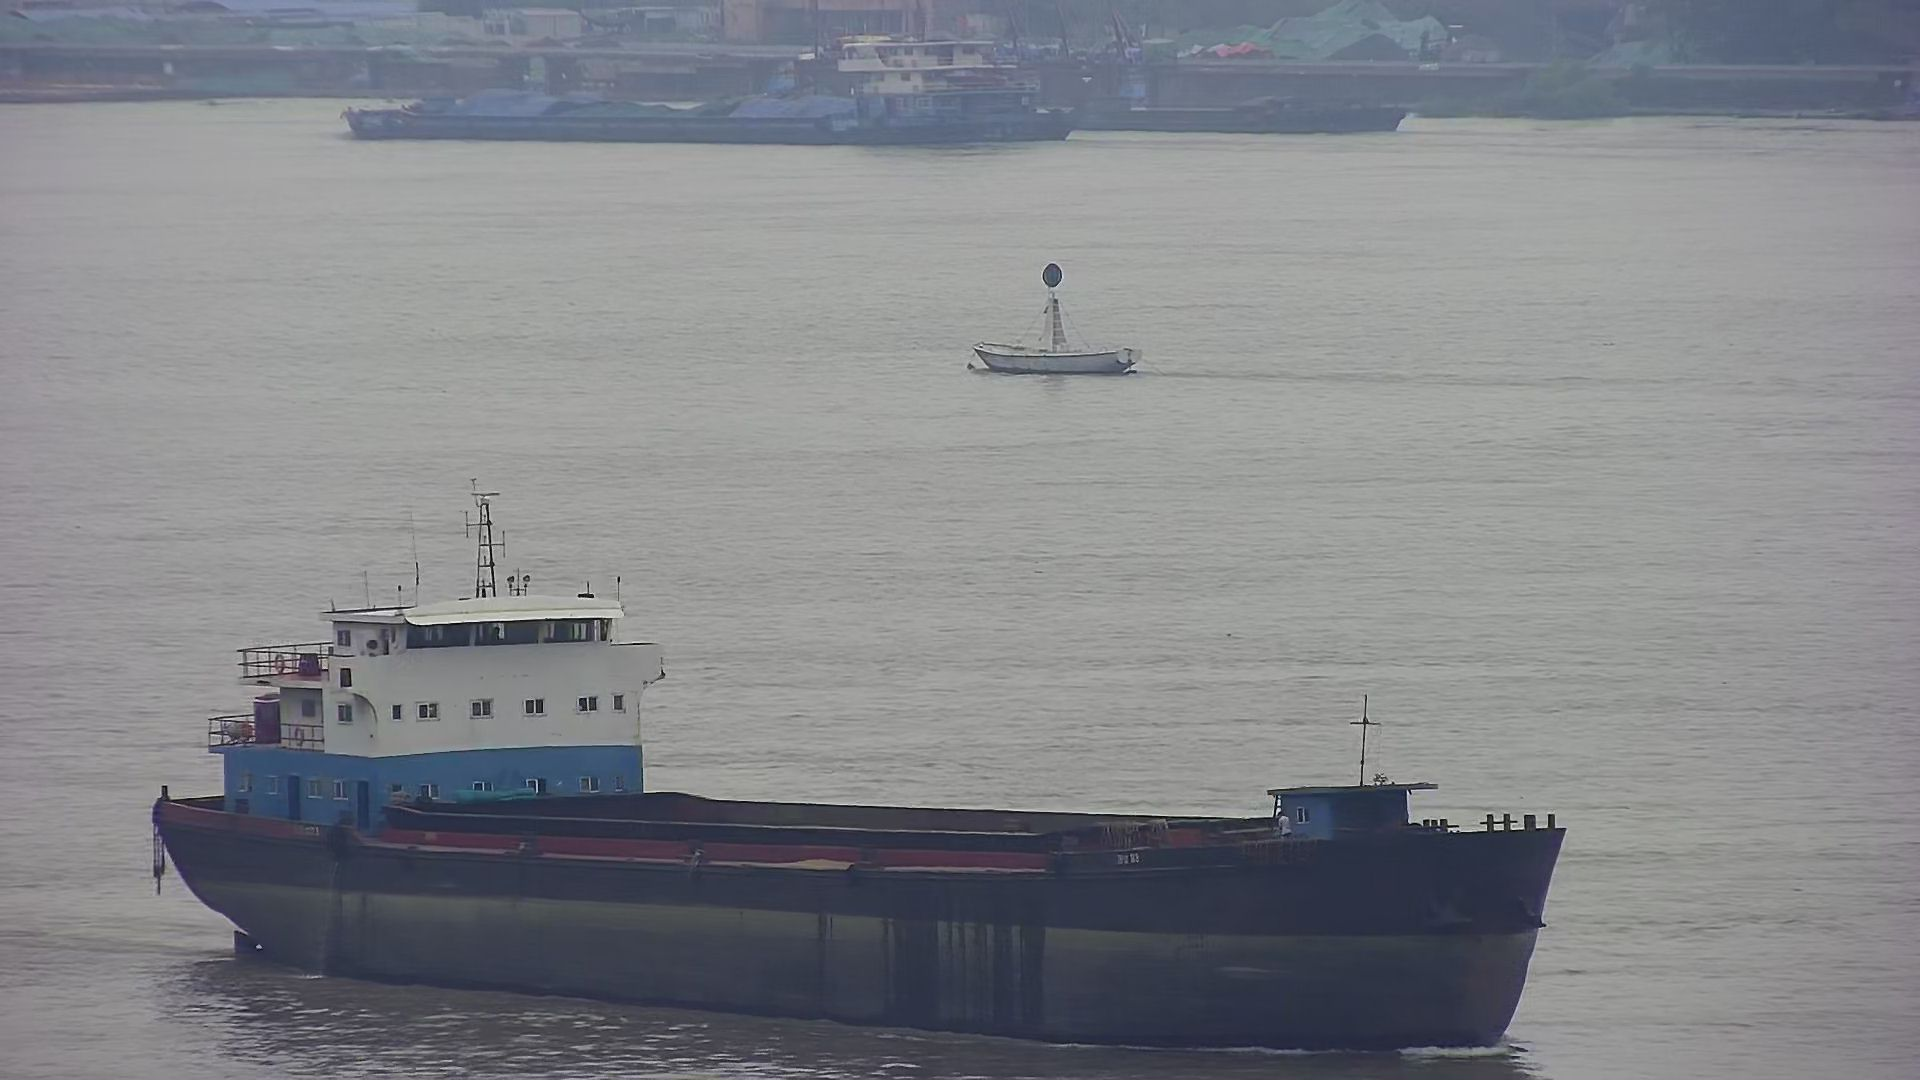boat: (963, 261, 1142, 378)
ship: (146, 485, 1572, 1064), (342, 36, 1077, 136), (934, 61, 1408, 140)
